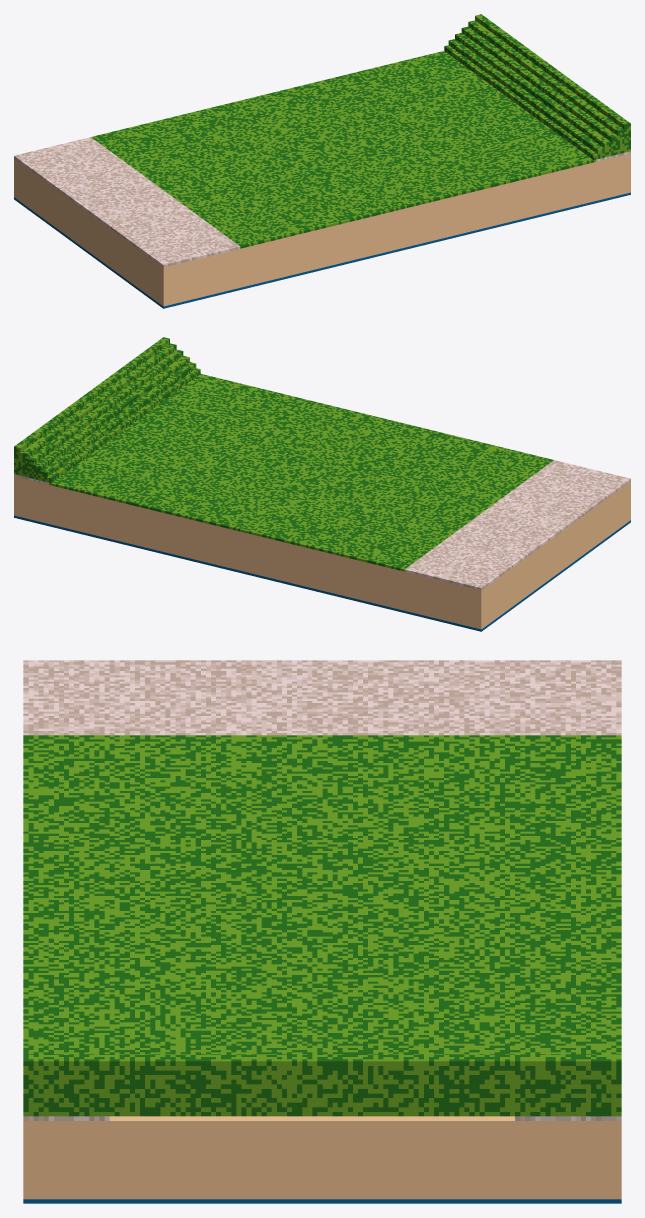
Rendered from castelloVillafranca-7.obj.
3 renders of one model, top to bottom at view 1: azimuth 30°, elevation 25°; view 2: azimuth 150°, elevation 25°; view 3: azimuth 270°, elevation 25°, orthographic. The views are drawn at different scales.
Bounding box in the file's own units: 21.3 × 3.1 × 11.8.
1 material, 1 textured.
